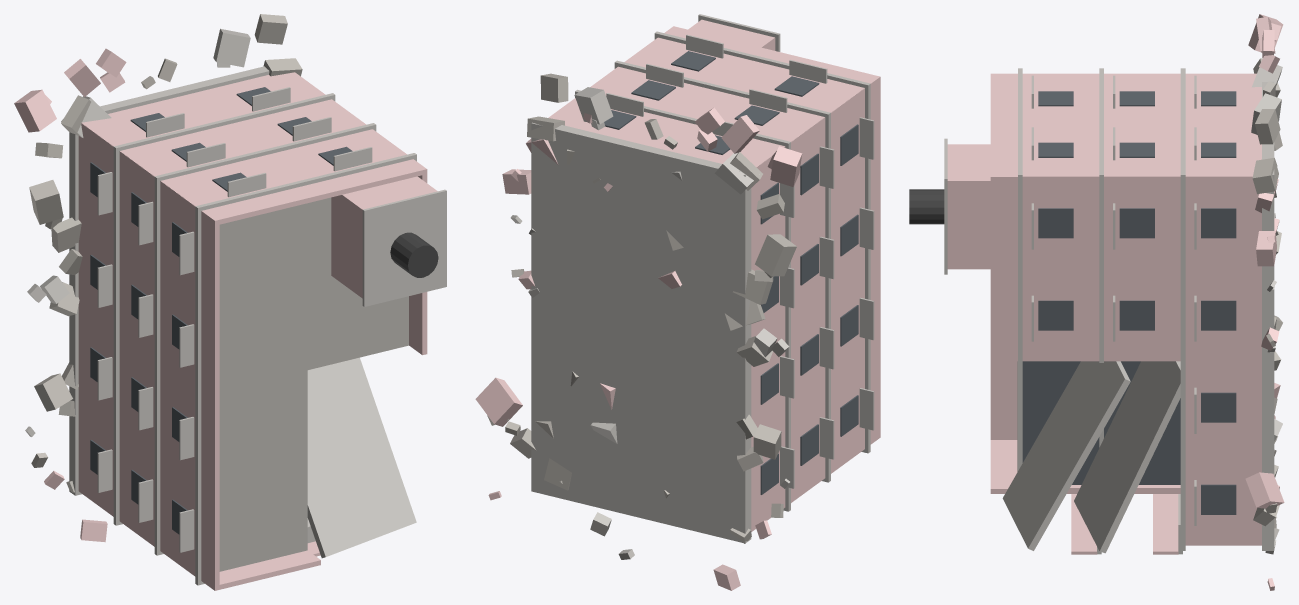
The model's file is damaged_corner_house_3f.glb.
The picture shows the model from 3 angles, left to right: view 1: azimuth 30°, elevation 25°; view 2: azimuth 150°, elevation 25°; view 3: azimuth 270°, elevation 25°; orthographic projection. The views are drawn at different scales.
Parts seen in each view (by area): view 1: pink, concrete, roof, rubble, glass, tank; view 2: concrete, pink, rubble, glass; view 3: pink, concrete, glass, rubble, tank.
Part boxes in pixels (x1,y1,x2,y2): pink: [14, 48, 437, 590]; concrete: [25, 28, 446, 585]; roof: [219, 197, 408, 571]; rubble: [29, 14, 302, 492]; glass: [90, 87, 352, 534]; tank: [390, 232, 438, 277]; concrete: [510, 14, 874, 559]; pink: [475, 19, 880, 590]; rubble: [487, 73, 796, 543]; glass: [604, 51, 858, 494]; pink: [947, 14, 1284, 590]; concrete: [944, 65, 1282, 554]; glass: [1022, 91, 1236, 514]; rubble: [1252, 58, 1282, 528]; tank: [909, 189, 944, 224].
Bounding box in the file's own units: 14.1 × 19.77 × 13.83.
